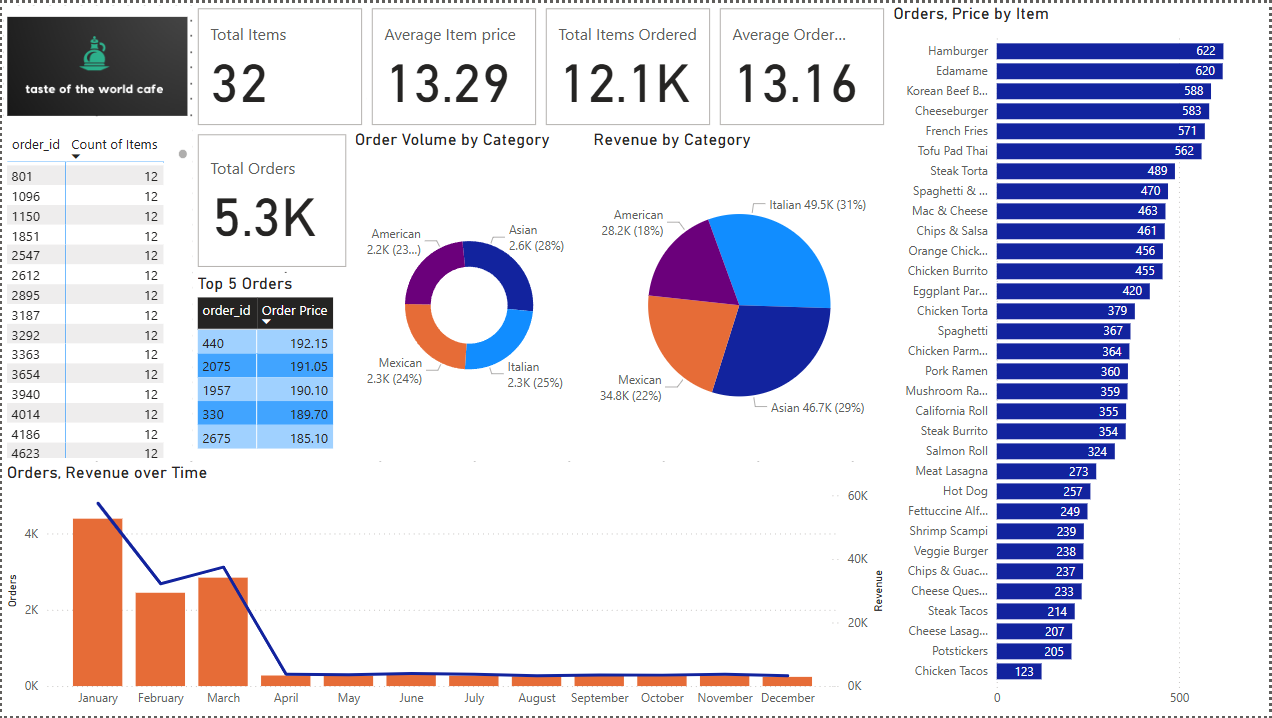

Layout of this report page (visuals, bound fields, positions):
{"tool":"powerbi","page":{"name":"Page 1","canvas":[1280,720],"ordinal":0},"visuals":[{"type":"clusteredBarChart","title":"Orders, Price by Item","fields":{"Category":["menu_items.item_name"],"Y":["CountNonNull(order_details (2).order_id)"]},"box":[896,0,384,720],"z":0},{"type":"cardVisual","fields":{"Data":["CountNonNull(menu_items.item_id)"]},"box":[192,0,176,128],"z":1000},{"type":"cardVisual","fields":{"Data":["Count(order_details (2).order_id)"]},"box":[192,128,160,144],"z":2000},{"type":"cardVisual","fields":{"Data":["Avg(order_details (2).menu_items.price)"]},"box":[720,0,176,128],"z":3000},{"type":"cardVisual","fields":{"Data":["Avg(menu_items.price)"]},"box":[368,0,176,128],"z":4000},{"type":"pieChart","fields":{"Category":["order_details (2).menu_items.category"],"Y":["Sum(order_details (2).menu_items.price)"]},"box":[592,128,304,336],"z":5000},{"type":"lineClusteredColumnComboChart","title":"Orders, Revenue over Time","fields":{"Category":["order_details (2).order_date.Variation.Date Hierarchy.Year","order_details (2).order_date.Variation.Date Hierarchy.Quarter","order_details (2).order_date.Variation.Date Hierarchy.Month"],"Y":["CountNonNull(order_details (2).order_details_id)"],"Y2":["Sum(order_details (2).menu_items.price)"]},"box":[0,464,896,256],"z":6000},{"type":"pivotTable","title":"Top 5 Orders","fields":{"Rows":["order_details (2).order_id"],"Values":["Sum(order_details (2).menu_items.price)"]},"box":[192,272,160,192],"z":8000},{"type":"cardVisual","fields":{"Data":["CountNonNull(order_details (2).menu_items.item_id)"]},"box":[544,0,176,128],"z":9000},{"type":"pivotTable","fields":{"Rows":["order_details (2).order_id"],"Values":["CountNonNull(order_details (2).menu_items.item_id)"]},"box":[0,128,192,336],"z":9001},{"type":"donutChart","fields":{"Category":["order_details (2).menu_items.category"],"Y":["Count(order_details (2).order_id)"]},"box":[352,128,240,336],"z":9002},{"type":"image","box":[0,0,192,128],"z":9003}]}

Visuals, with their boxes in screenshot pixels (x1, y1, x2, y2), scaled from the page's 1280x720 canvas onto the 1272x718 screenshot:
"Orders, Price by Item" clusteredBarChart: Rect(890, 0, 1271, 717)
cardVisual - CountNonNull(menu_items.item_id): Rect(191, 0, 366, 128)
cardVisual - Count(order_details (2).order_id): Rect(191, 128, 350, 271)
cardVisual - Avg(order_details (2).menu_items.price): Rect(716, 0, 890, 128)
cardVisual - Avg(menu_items.price): Rect(366, 0, 541, 128)
pieChart - order_details (2).menu_items.category x Sum(order_details (2).menu_items.price): Rect(588, 128, 890, 463)
"Orders, Revenue over Time" lineClusteredColumnComboChart: Rect(0, 463, 890, 717)
"Top 5 Orders" pivotTable: Rect(191, 271, 350, 463)
cardVisual - CountNonNull(order_details (2).menu_items.item_id): Rect(541, 0, 716, 128)
pivotTable - order_details (2).order_id x CountNonNull(order_details (2).menu_items.item_id): Rect(0, 128, 191, 463)
donutChart - order_details (2).menu_items.category x Count(order_details (2).order_id): Rect(350, 128, 588, 463)
image: Rect(0, 0, 191, 128)
